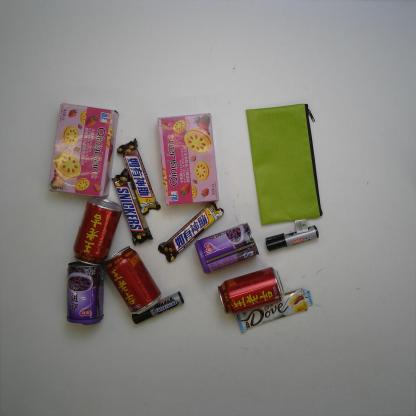Canned Food: (193, 223, 260, 275), (61, 258, 108, 327)
Chocolate: (158, 200, 225, 268), (232, 284, 315, 336), (116, 132, 164, 216), (111, 165, 157, 247)
Dessert: (44, 100, 120, 202), (155, 109, 222, 208)
Drink: (100, 244, 164, 320), (68, 194, 124, 270), (216, 263, 285, 318)
Stationery: (244, 102, 326, 233), (130, 288, 184, 328), (265, 224, 321, 254)
